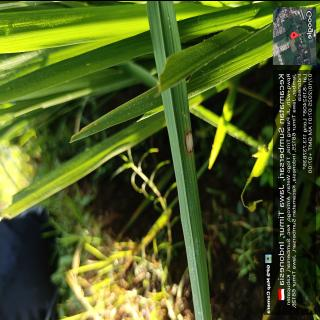Blast: (184, 130, 194, 153)
